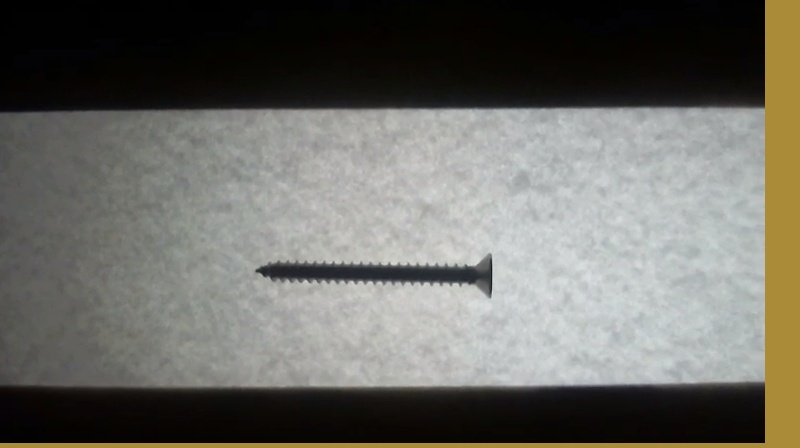S002: (251, 250, 494, 301)
